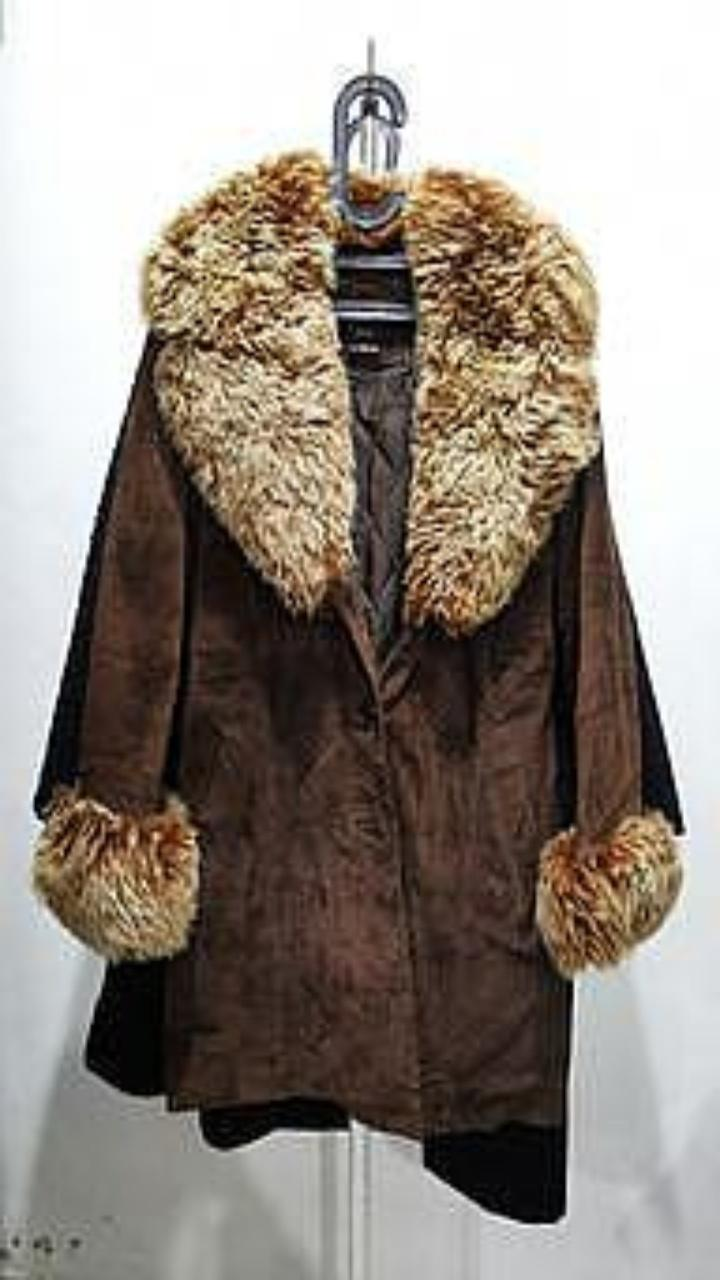Coat: (34, 151, 682, 1220)
